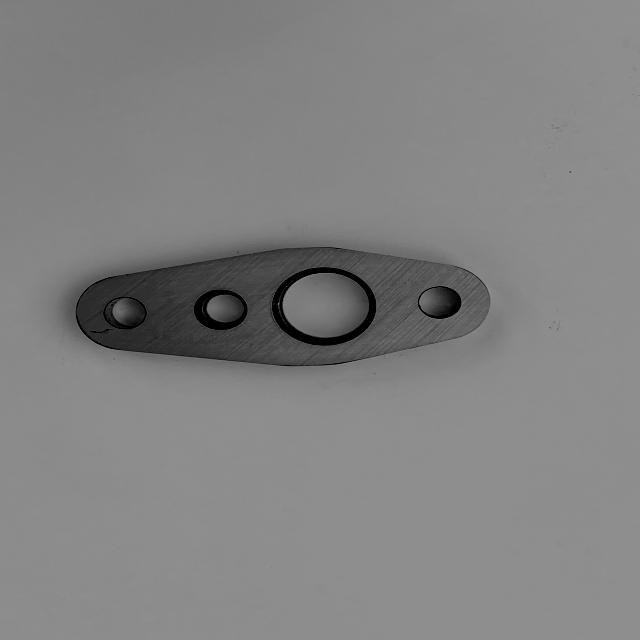lines: (90, 326, 114, 336)
